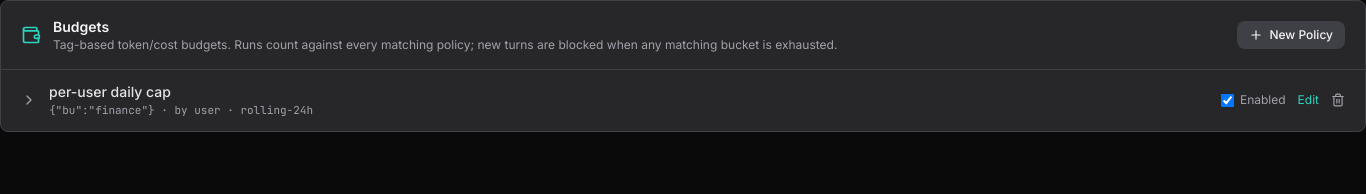
BudgetsSection › shows the API detail when enabling a policy fails
The image size is (1366, 194).
Click the checkbox labelled "Enabled" at (1228, 100), box [1221,94,1234,107]
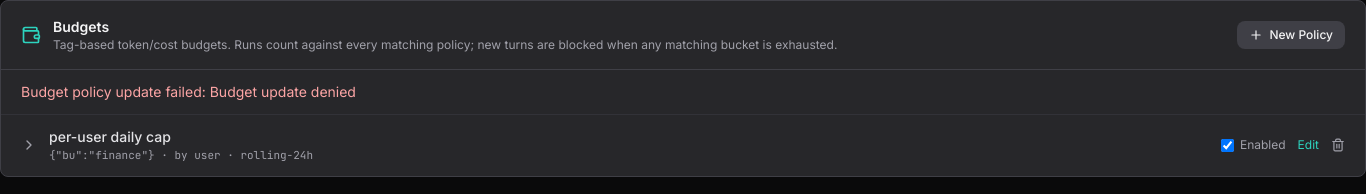
Expected: the text "per-user daily cap" is shown, [49,128,171,145]
Now the message "Budget policy update failed: Budget update denied" is shown, box [21,83,356,100]
